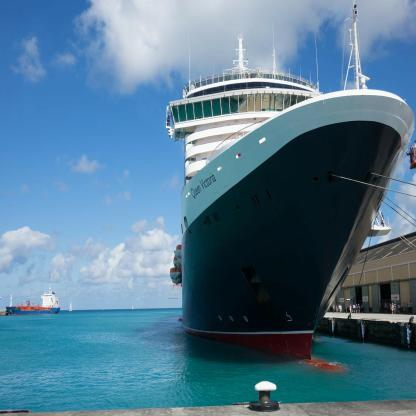Bulk Carrier: (5, 285, 60, 314)
